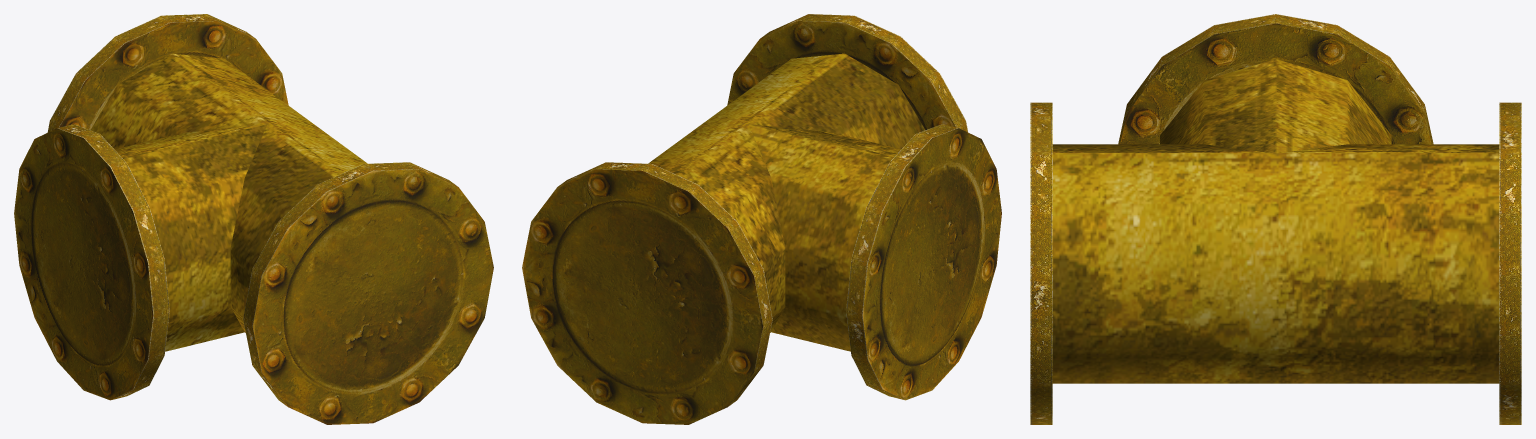
The model's file is tjoint_yellow.DAE.
3 renders of one model, left to right at view 1: azimuth 30°, elevation 25°; view 2: azimuth 150°, elevation 25°; view 3: azimuth 270°, elevation 25°, orthographic. The views are drawn at different scales.
Parts seen in each view (by area): view 1: Box343, Box344; view 2: Box343, Box344; view 3: Box344, Box343.
Part boxes in pixels (x1=…): Box343: x1=14, y1=14, x2=493, y2=424; Box344: x1=90, y1=53, x2=367, y2=351; Box343: x1=522, y1=14, x2=1001, y2=424; Box344: x1=648, y1=53, x2=924, y2=351; Box344: x1=1052, y1=59, x2=1499, y2=383; Box343: x1=1030, y1=14, x2=1521, y2=424.
Size of the model in its own units: 0.8282 by 1 by 0.6566.
